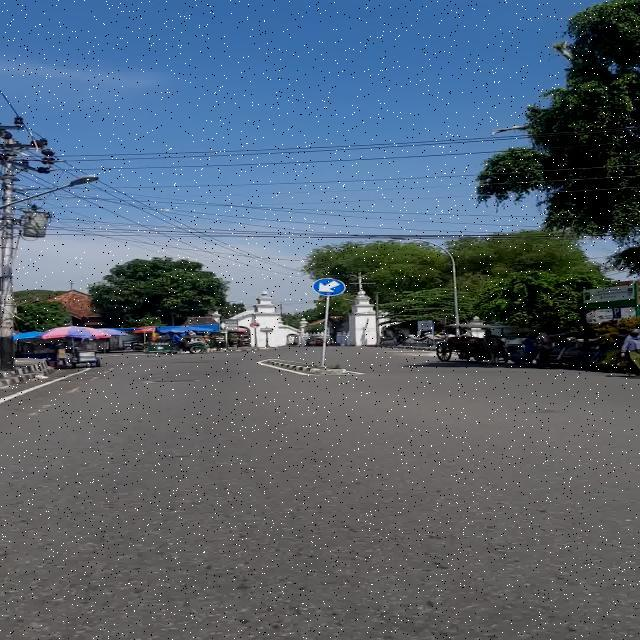Lajur Kiri: (313, 278, 347, 296)
